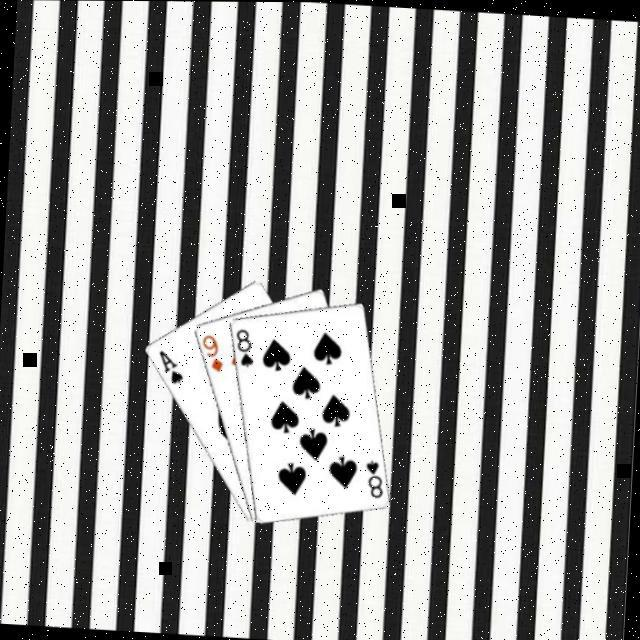8S: (229, 323, 255, 368), (359, 454, 385, 498)
9D: (196, 329, 226, 372)
AS: (152, 345, 185, 385)
